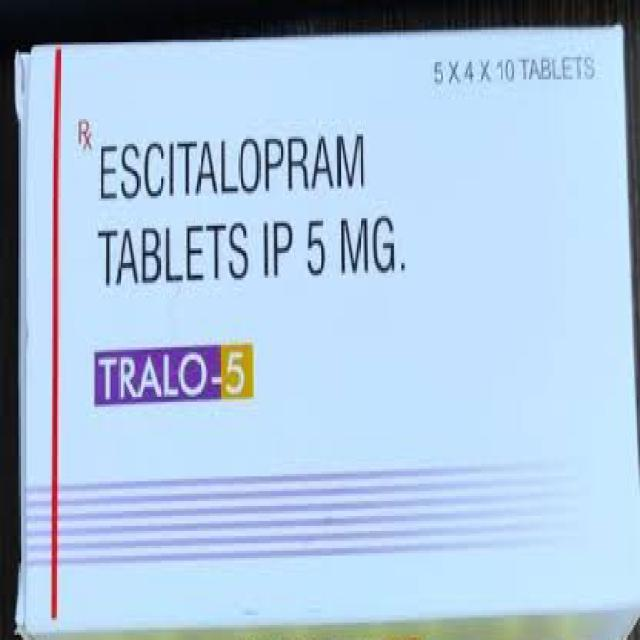drug-name: (95, 352, 248, 399)
